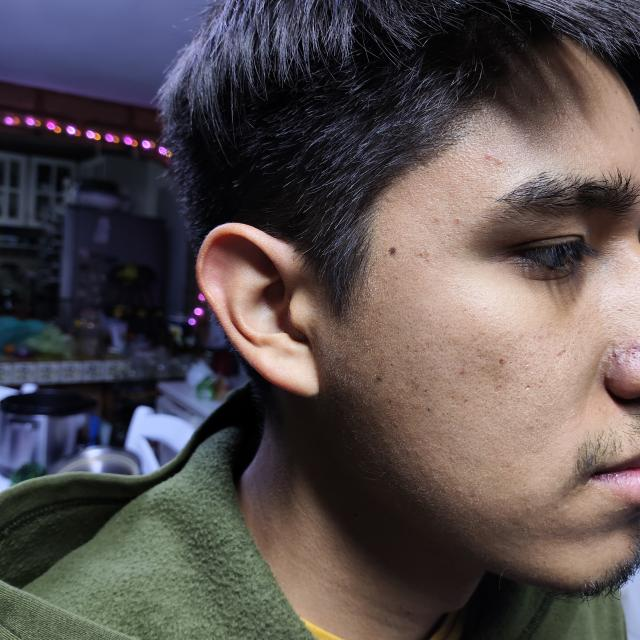ear: (196, 222, 328, 398)
